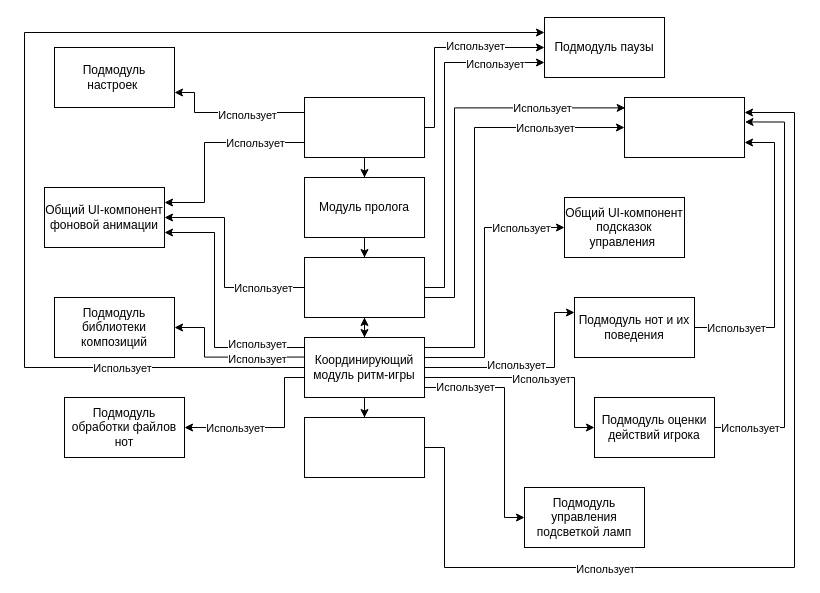
The diagram is 820 pixels wide and 593 high, and some of its shapes have lost their labels. The centre of each missing label's shape, as x and y in pixels:
Модуль главного меню: (364,127)
Модуль концовок: (364,447)
Модуль основной новеллы: (364,287)
Общий компонент глобального состояния: (684,127)
